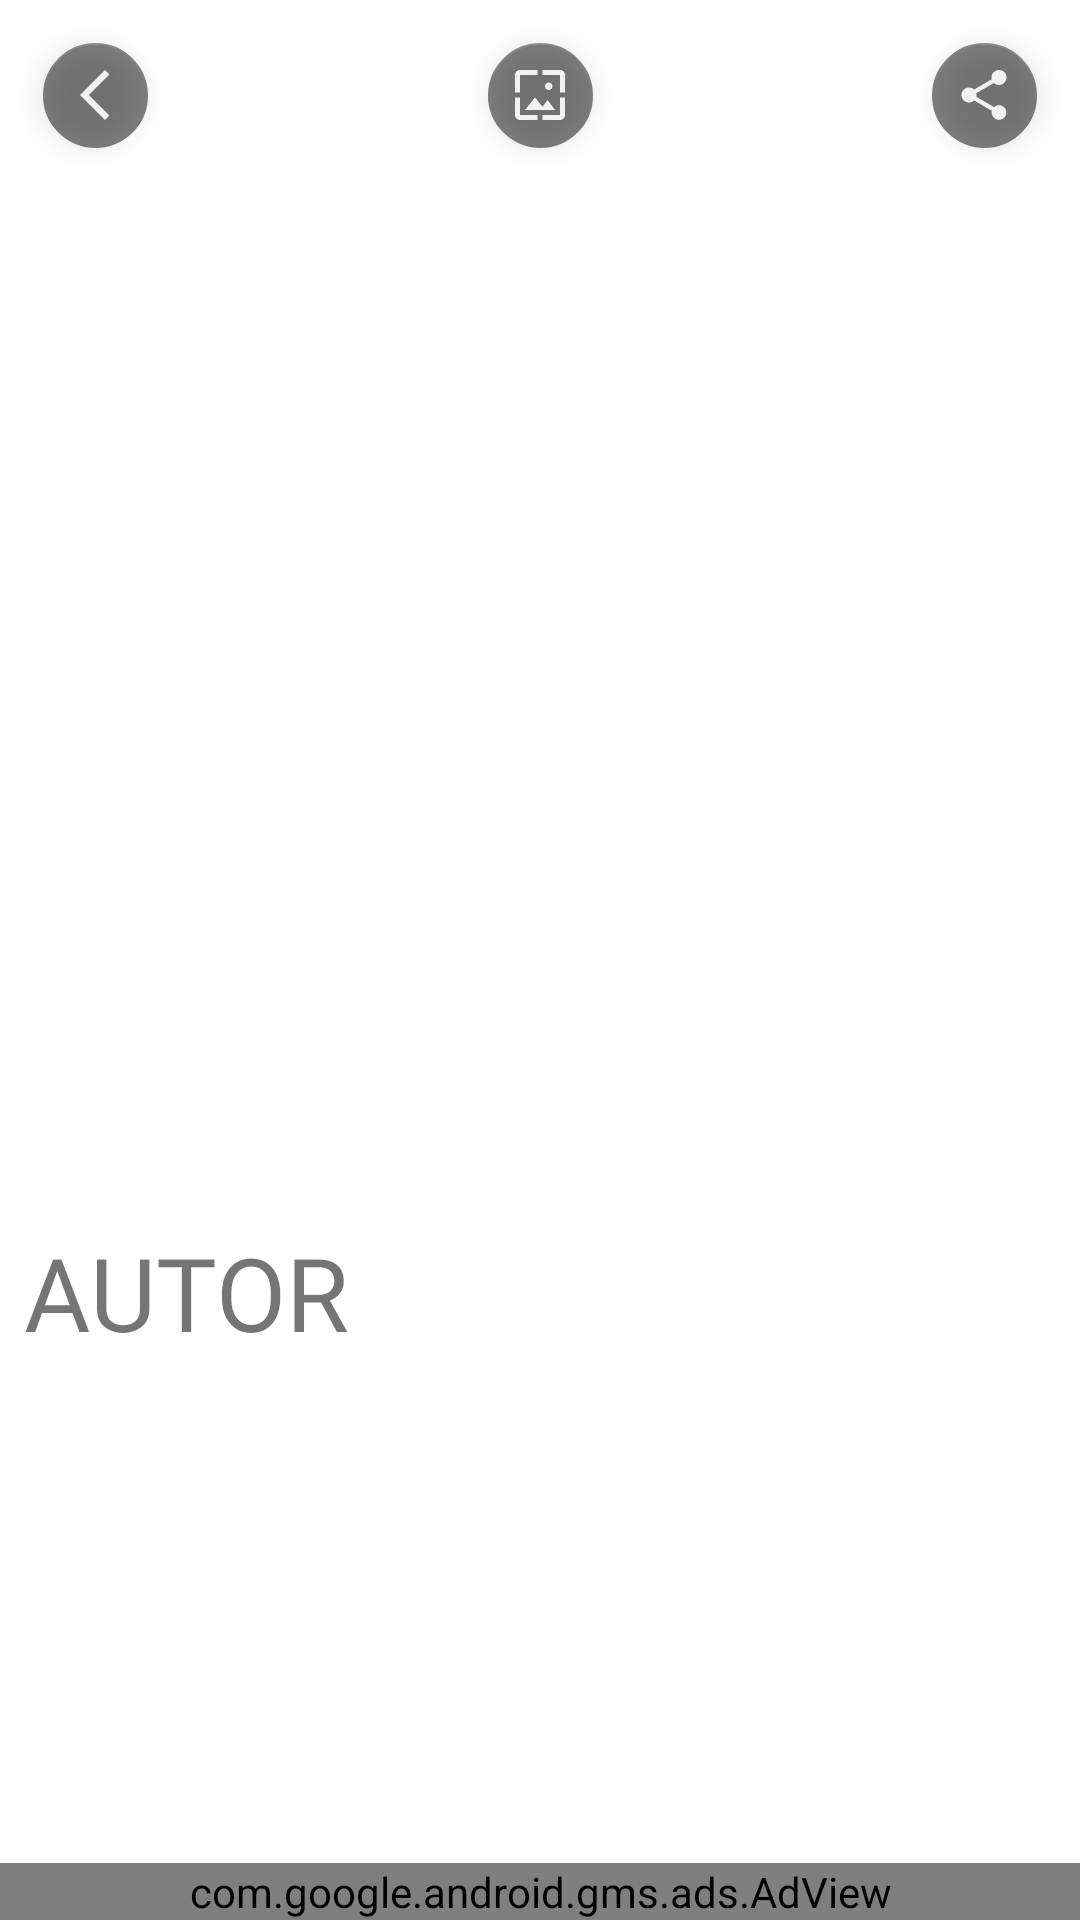

Named icons in this screenshot (1080*1920) and their centers, point (x, y):
arrow back: point (95, 95)
share: point (984, 95)
